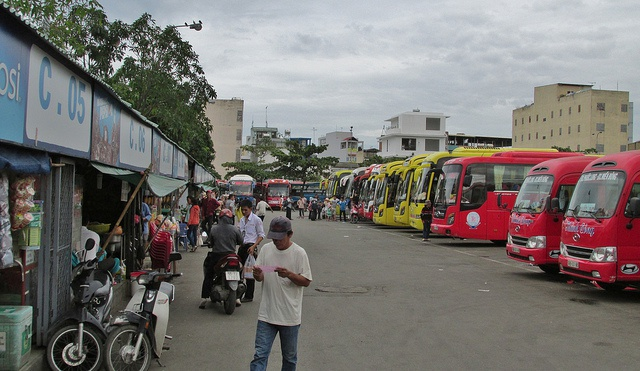non-vehicle: (45, 236, 115, 371), (102, 270, 183, 371), (209, 255, 245, 314), (352, 215, 358, 223)
